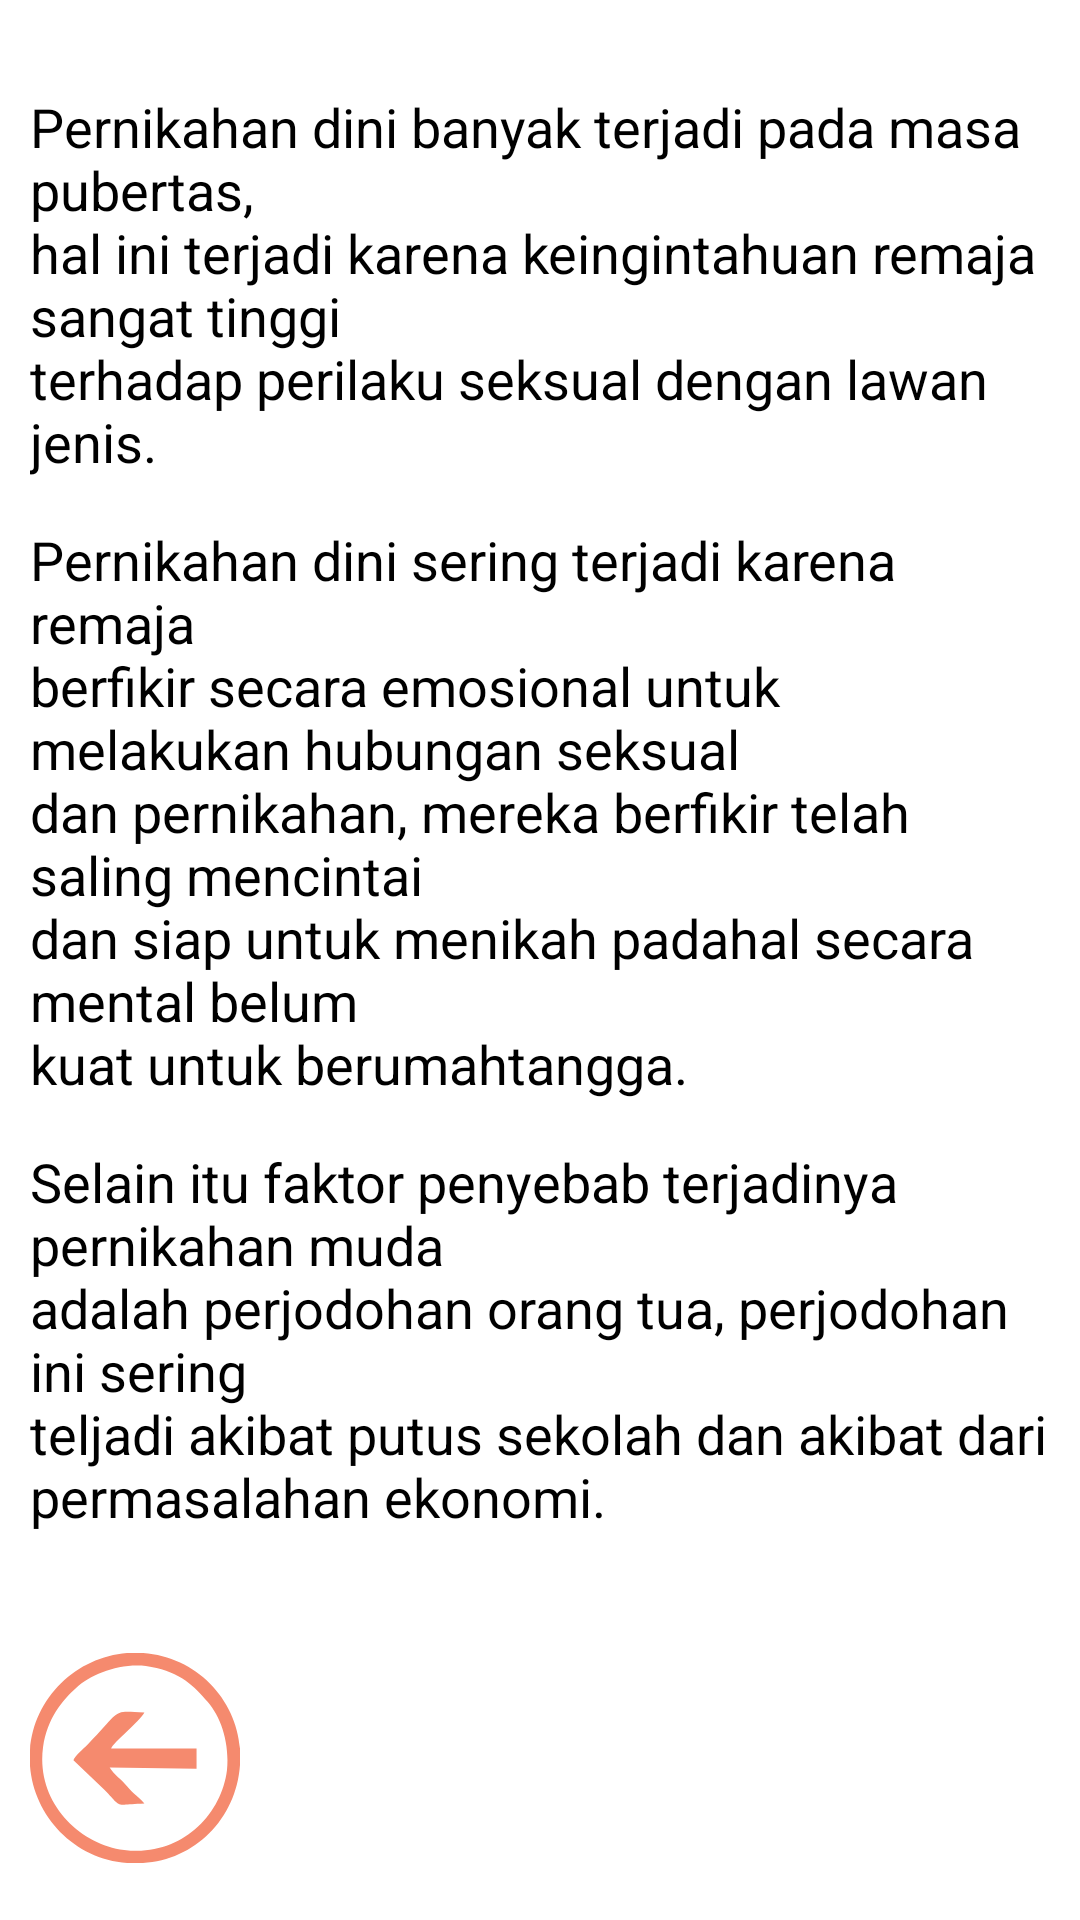

Icon bounding boxes for this 1080w x 1920h phone screenshot, format [x1=x1, y1=y1, x2=x2, y2=y2]:
prev: [x1=30, y1=1653, x2=240, y2=1863]
